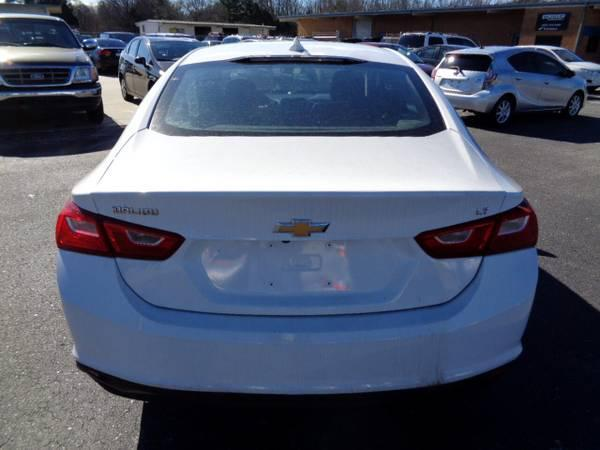Left_Taillight: (50, 194, 182, 263)
Rear_Bumper: (55, 247, 536, 401)
Rear_Windshield: (152, 59, 445, 139)
Right_Taillight: (412, 197, 539, 257)
Roof: (127, 37, 463, 131)
Tailgate: (73, 129, 519, 314)
